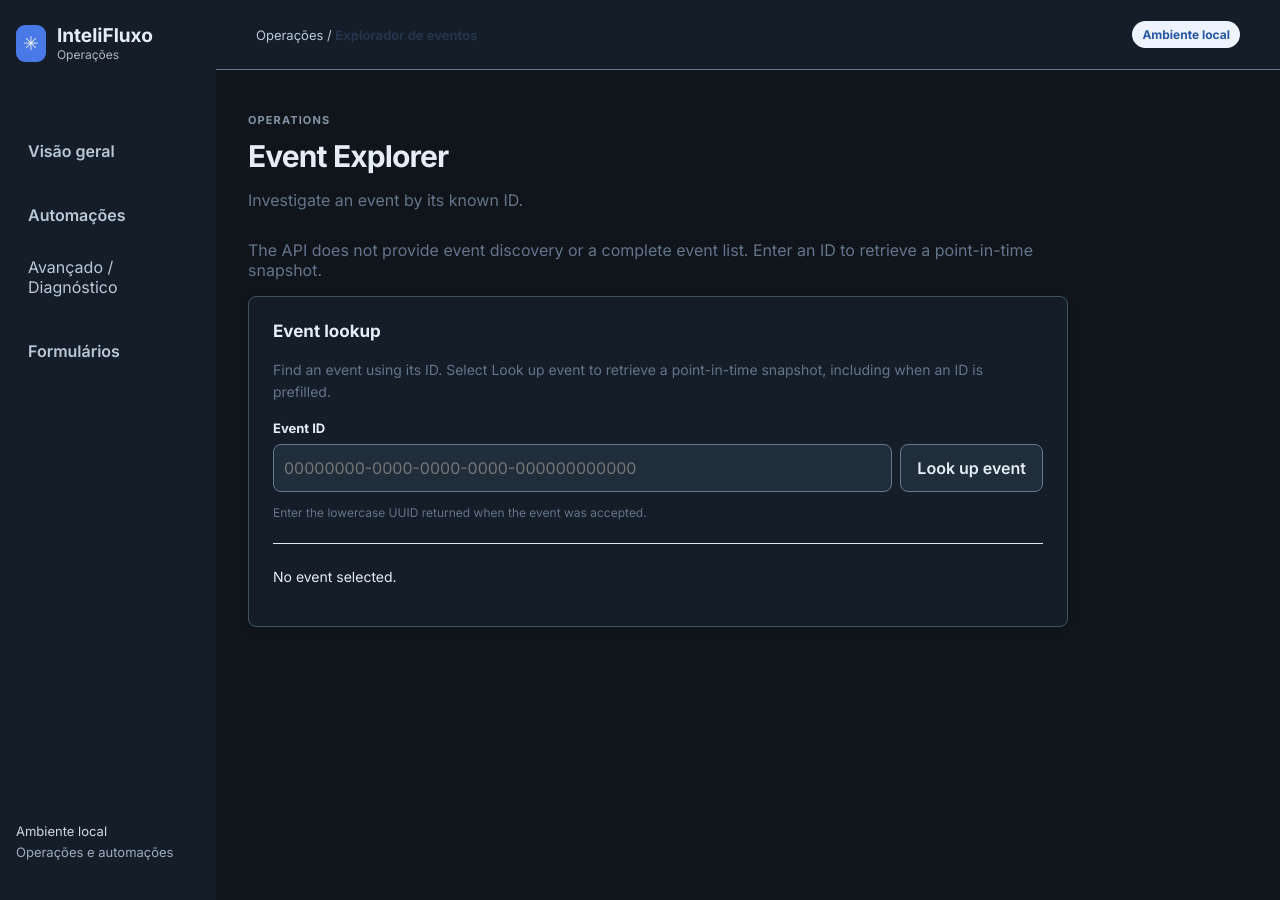
Test: rejects malformed event response 0
This screenshot has width=1280, height=900.
Type "12345678-1234-1234-1234-123456789abc" into the field labelled "Event ID" at (583, 468), box [273,444,892,492]
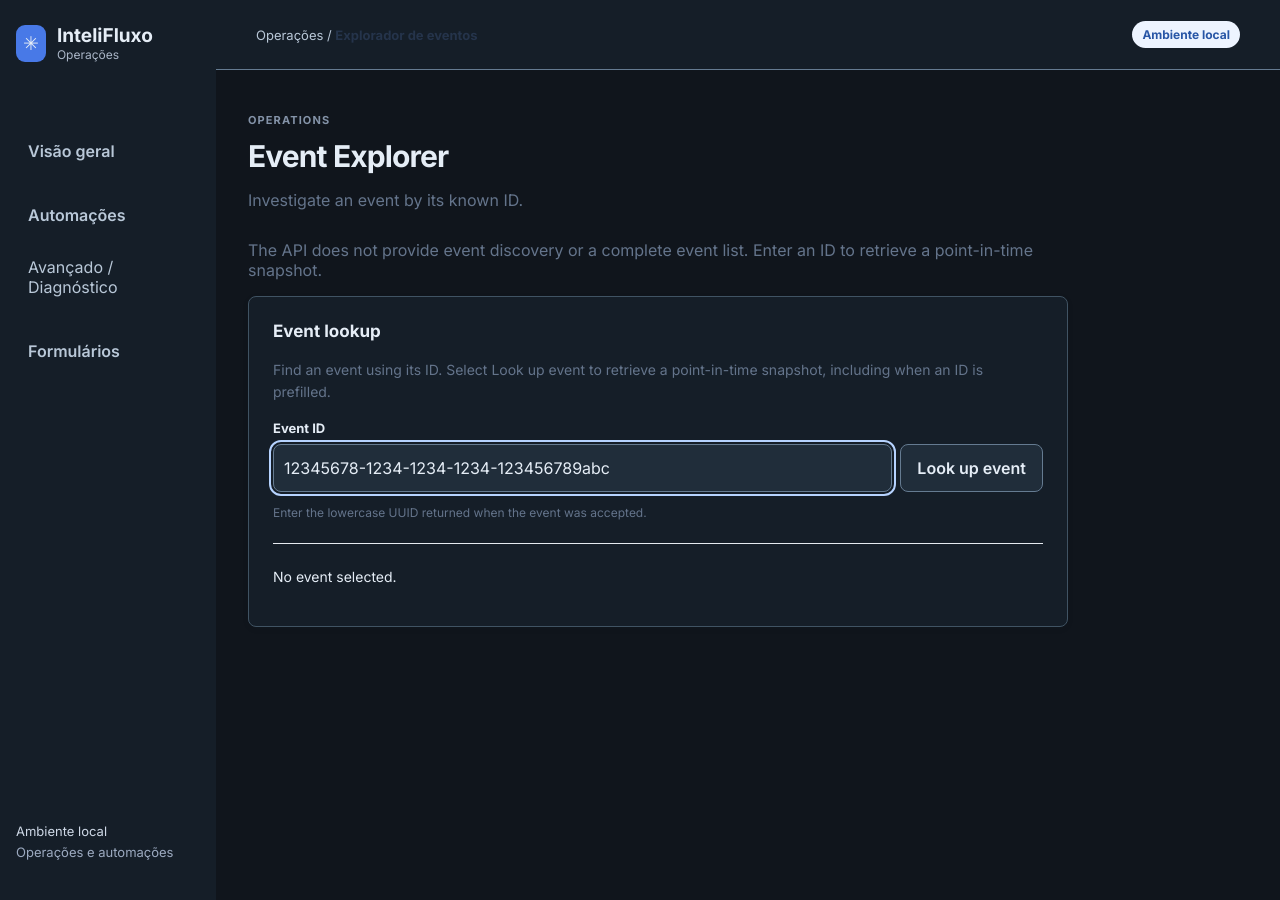
Click the button "Look up event" at (972, 468), box [900,444,1043,492]
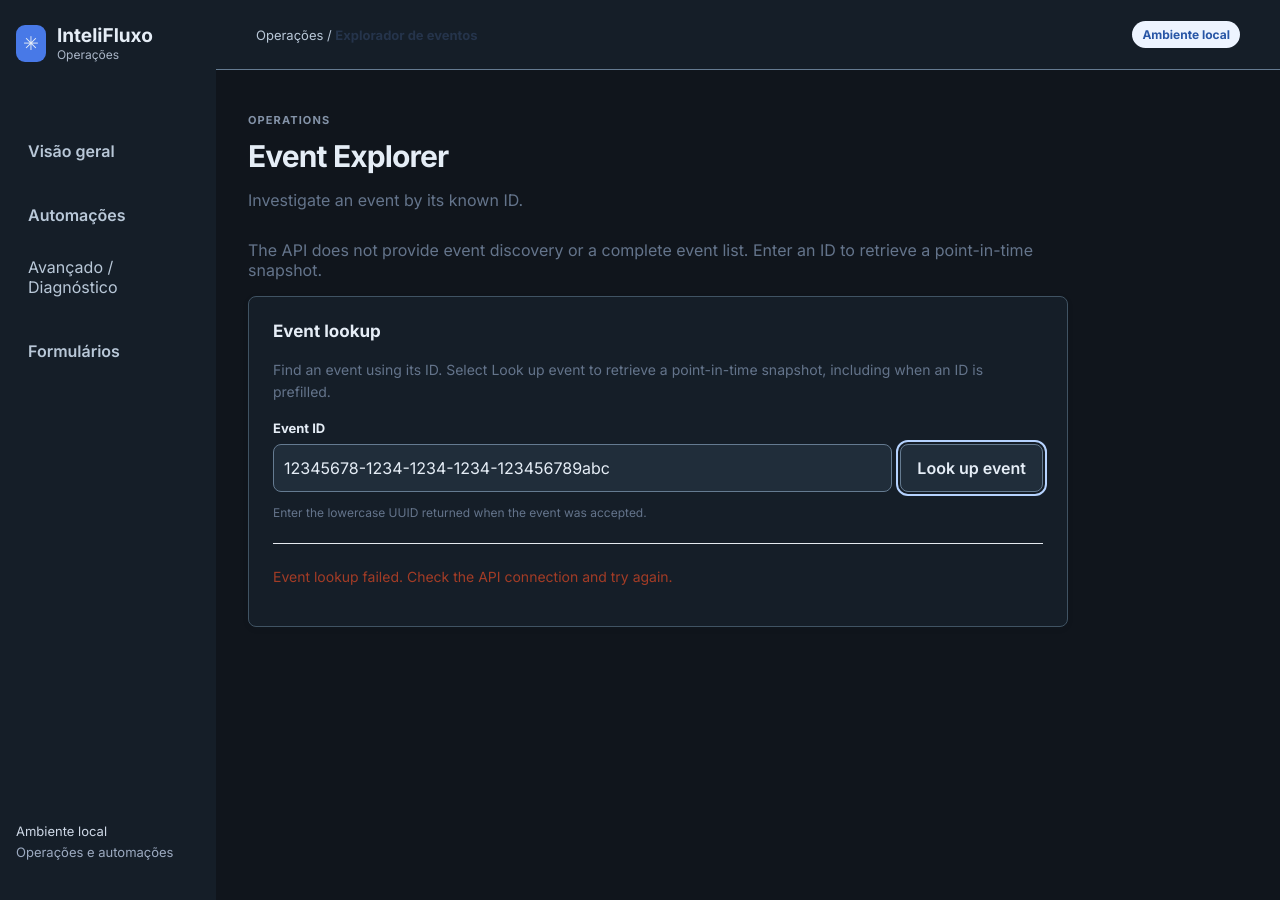
Now the text "Event lookup failed. Check the API connection and try again." is shown, box [273,568,673,585]
